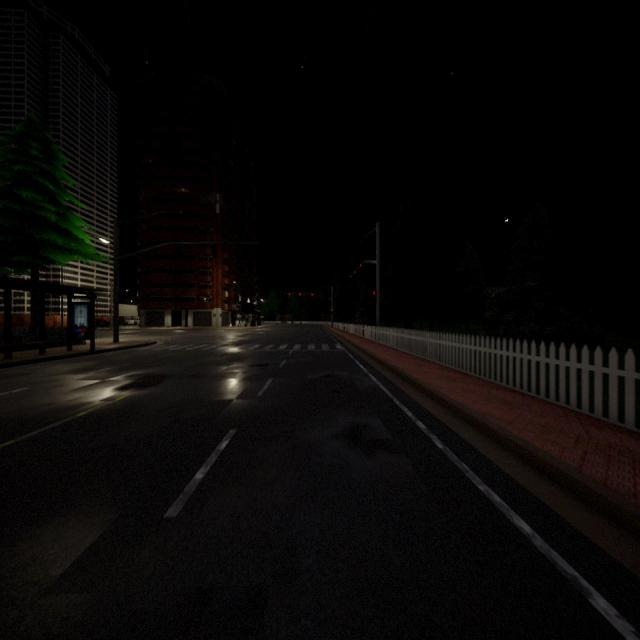Vehicle: (96, 318, 110, 328), (124, 317, 138, 326)
traffic_light: (212, 243, 216, 258), (176, 244, 180, 256), (298, 293, 302, 296), (288, 293, 291, 296), (311, 293, 314, 296), (350, 274, 352, 278), (354, 270, 356, 274), (360, 263, 362, 267), (373, 291, 375, 295), (331, 309, 333, 312)
